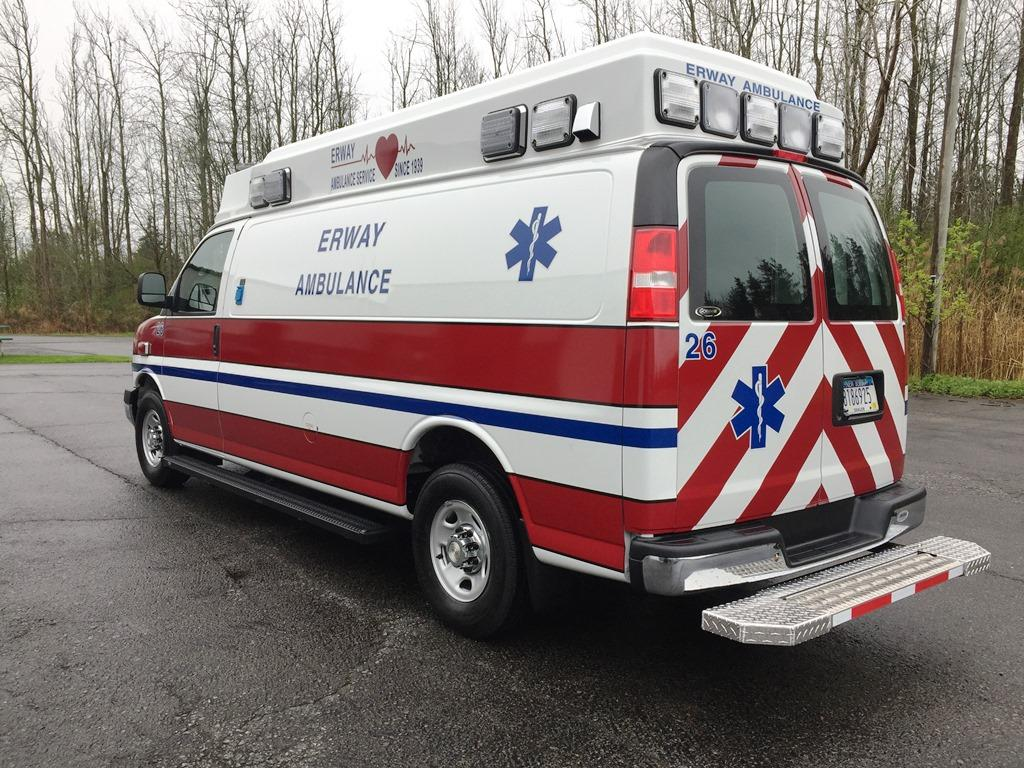ambulance_off: (123, 31, 991, 643)
